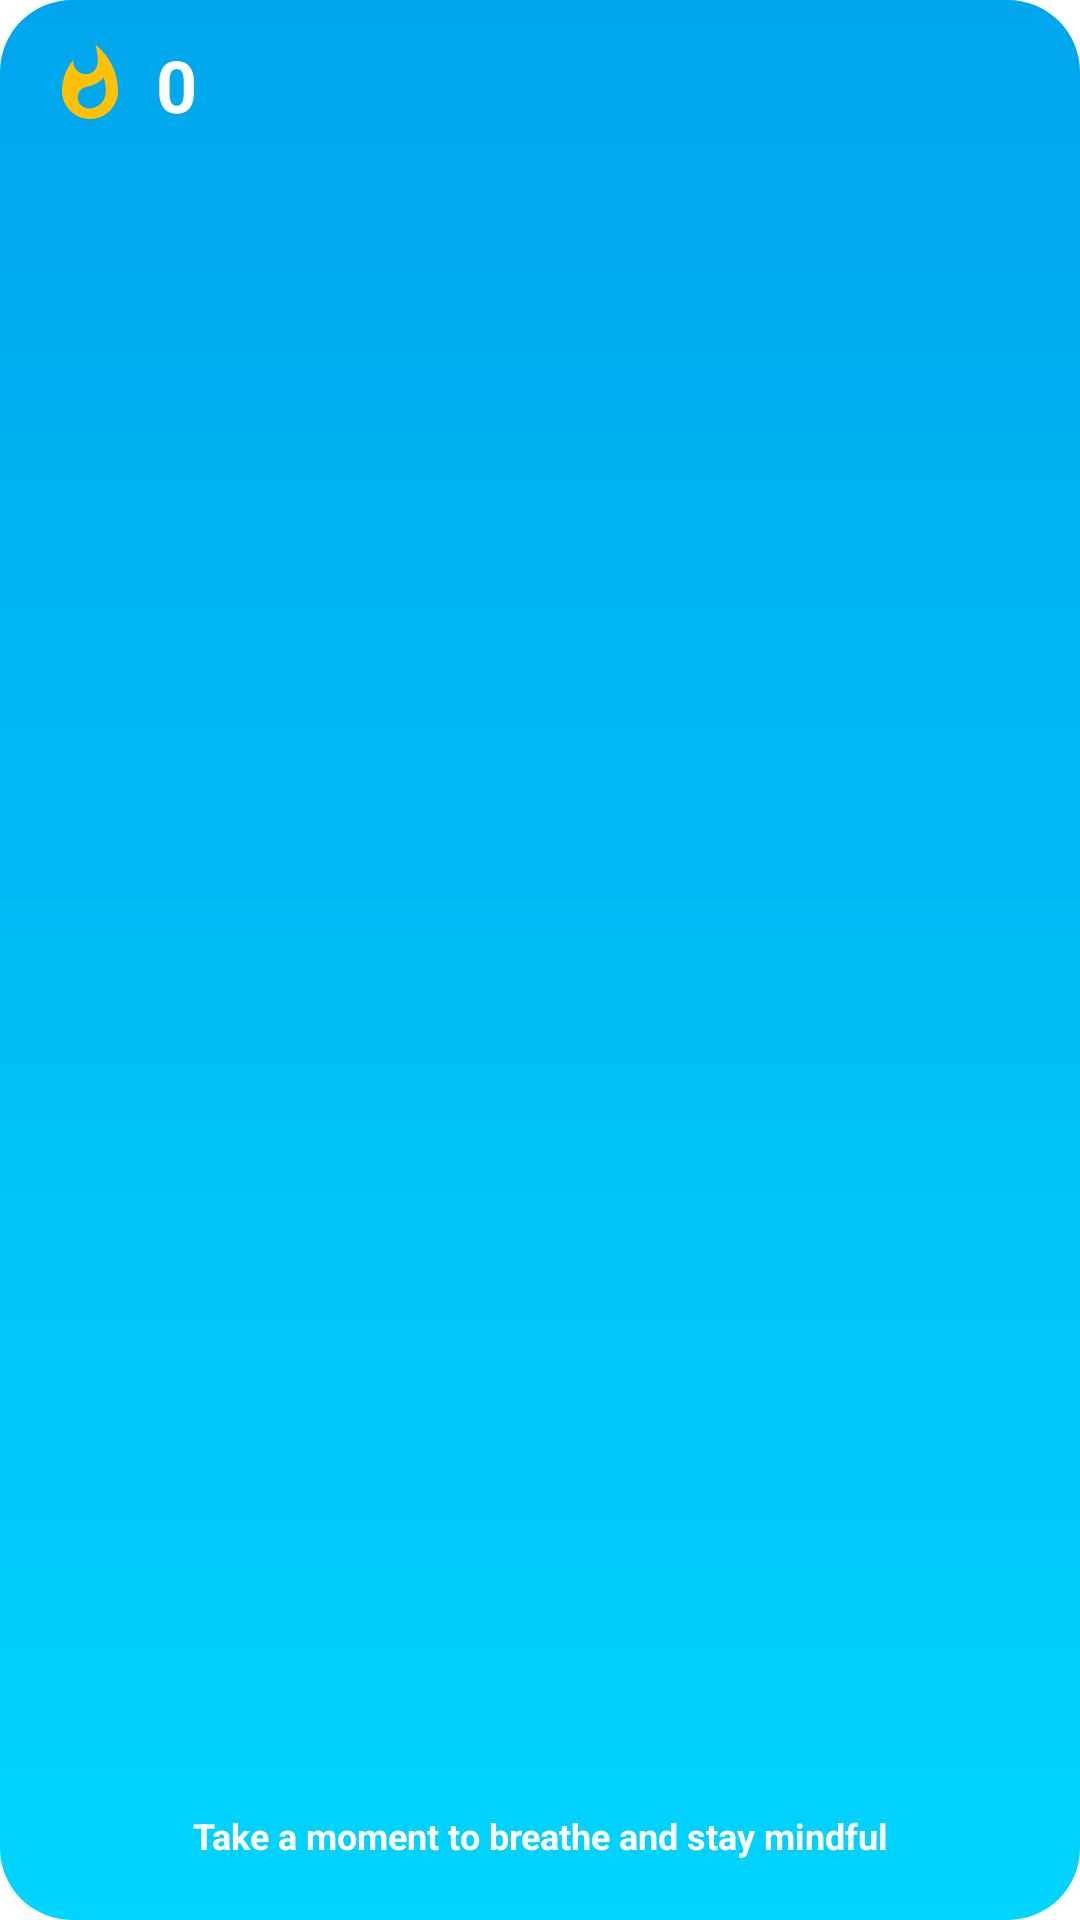

Icon bounding boxes for this 1080px x 1920px phone screenshot, format (x1, y1, x2, y2):
Current Streak: (62, 44, 118, 119)
